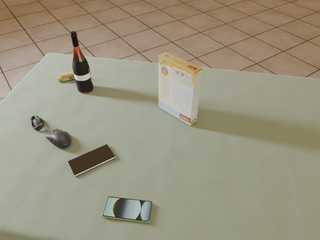bottle: (70, 31, 93, 93)
box: (159, 52, 202, 125)
mouse: (46, 129, 71, 148)
phone: (67, 144, 116, 176), (102, 197, 152, 223)
toy_car: (57, 71, 75, 82)
